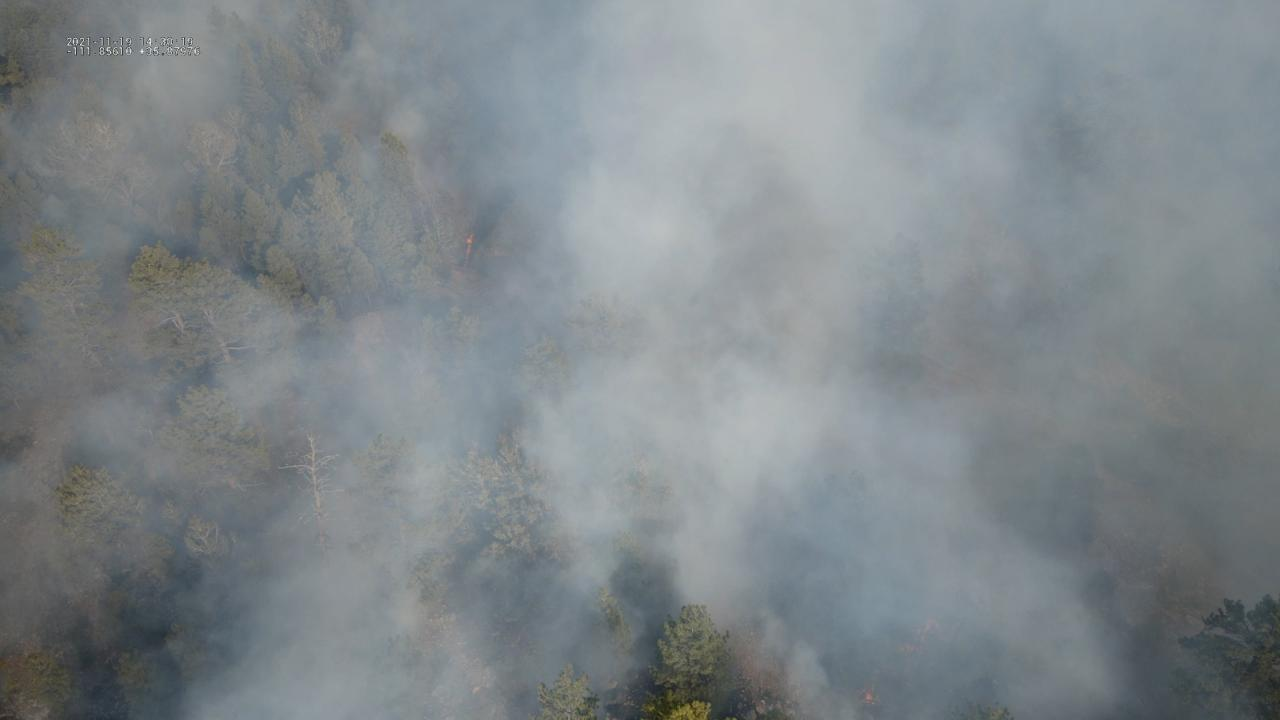fire: (858, 685, 879, 708), (464, 233, 475, 247)
smoke: (0, 0, 1280, 720)
